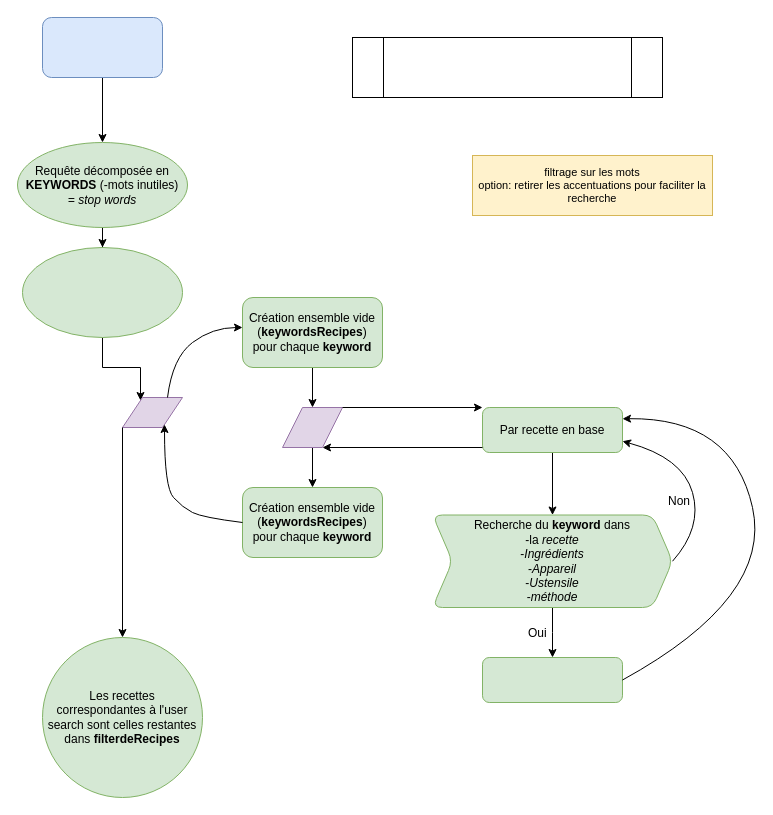
Some shapes in this 773 by 815 pixel diagram are drawn without their labels. The centre of each missing label's shape, as x and y in pixels:
Ajouter la recette à keywordsRecipes: the point at 552,679
Algorithme 1 Recherche en parcourant toutes les recettes: the point at 507,67
Toutes les recettes dans une base (filteredRecipes): the point at 102,292
User search (saisie barre de recherche): the point at 102,47
